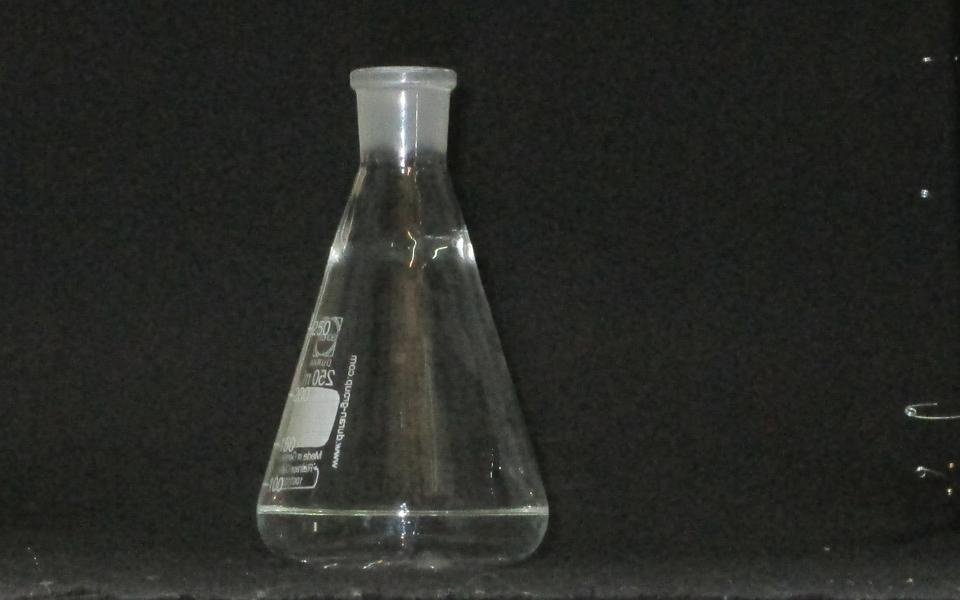Titrarion: (261, 53, 550, 570)
